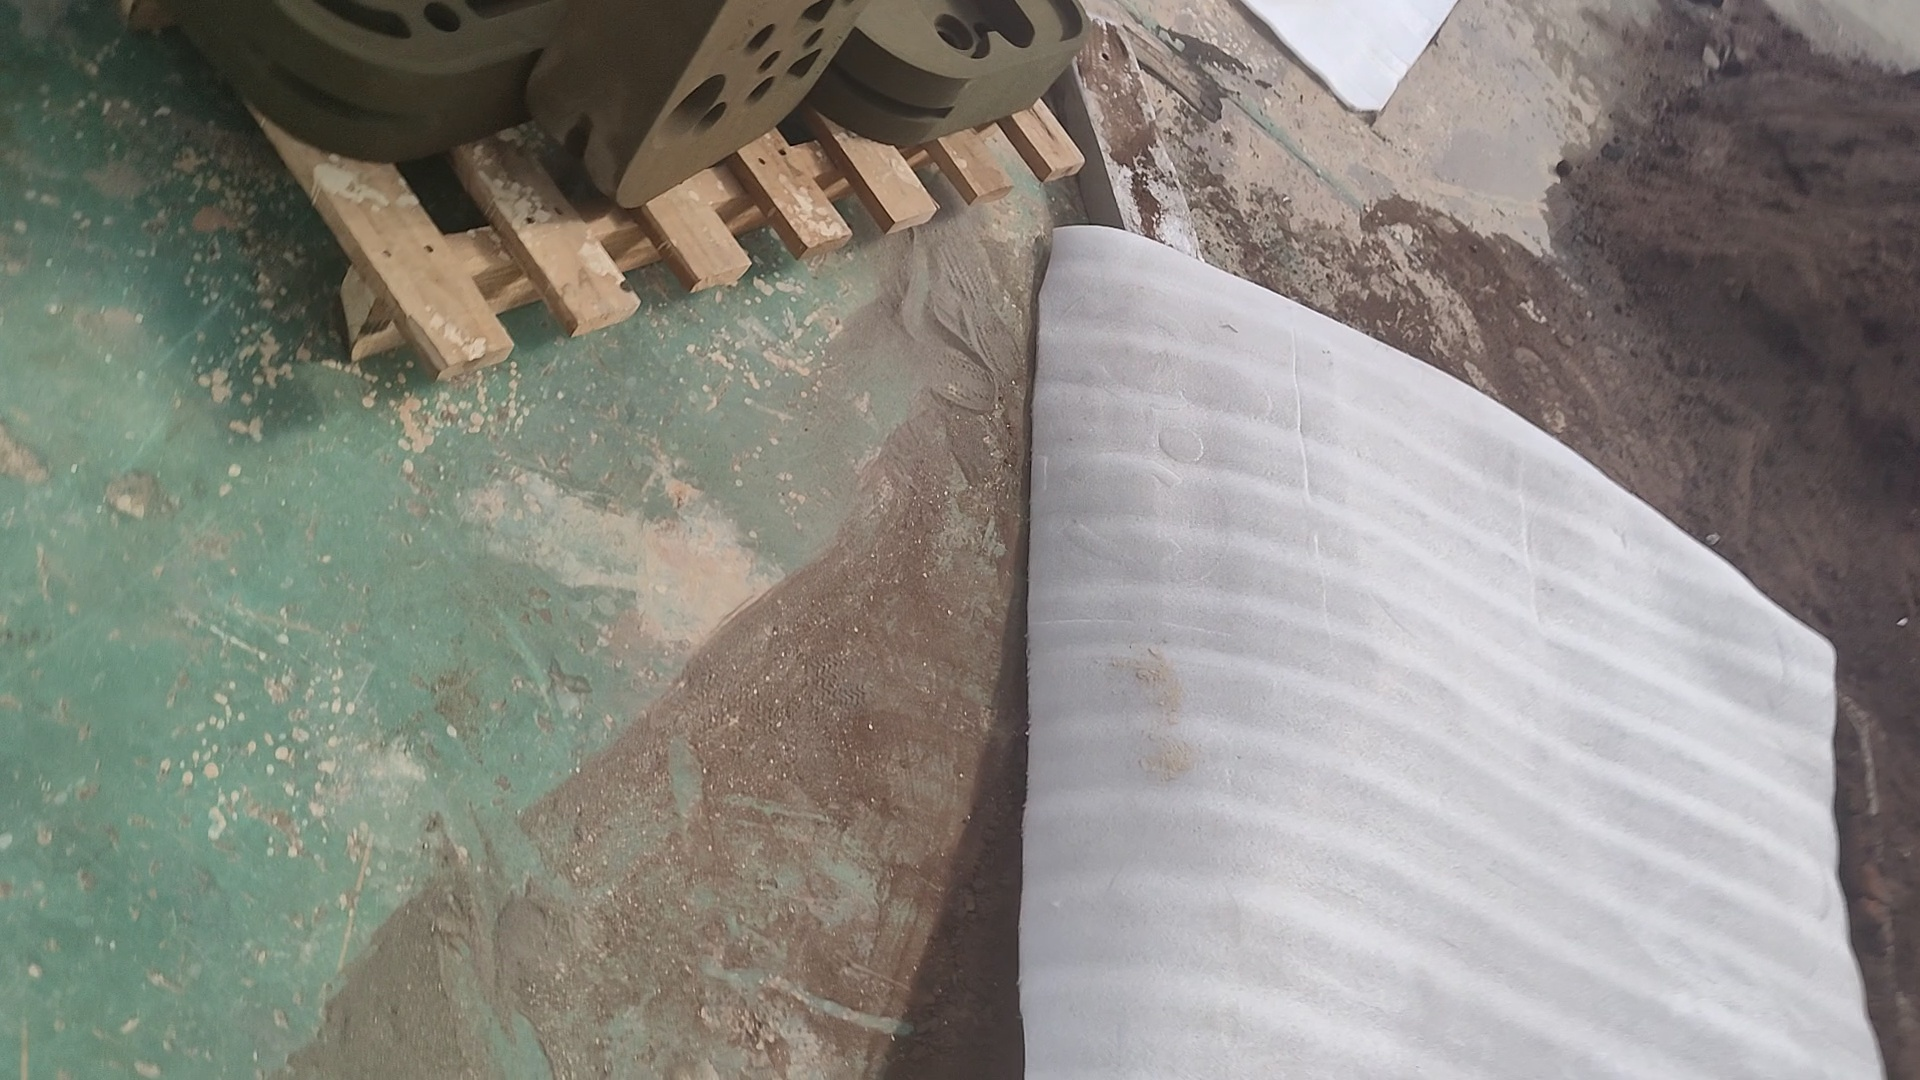pouring hole: (651, 71, 727, 146)
